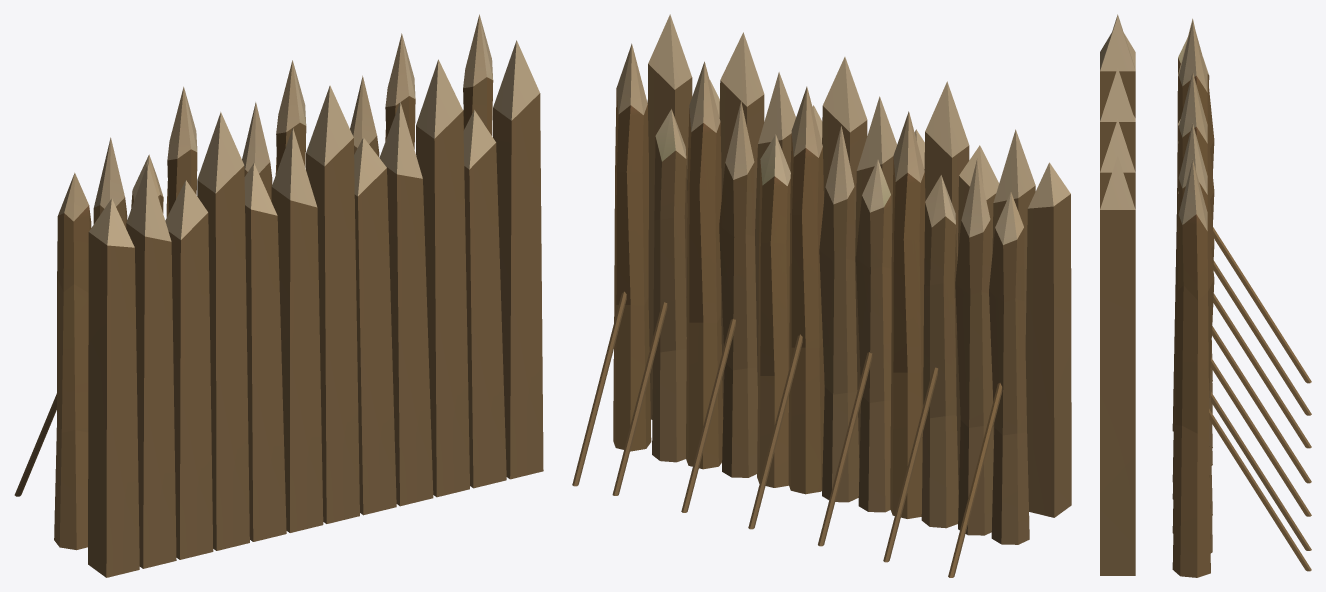
Rendered from TribalWall.fbx.
3 renders of one model, left to right at view 1: azimuth 30°, elevation 25°; view 2: azimuth 150°, elevation 25°; view 3: azimuth 270°, elevation 25°, orthographic. The views are drawn at different scales.
Parts seen in each view (by area): view 1: TribalWall_LOD_2, TribalWall_LOD_1; view 2: TribalWall_LOD_1, TribalWall_LOD_2; view 3: TribalWall_LOD_1, TribalWall_LOD_2.
Part boxes in pixels (x1=…): TribalWall_LOD_2: x1=88, y1=40, x2=543, y2=577; TribalWall_LOD_1: x1=14, y1=14, x2=493, y2=550; TribalWall_LOD_1: x1=572, y1=43, x2=1029, y2=577; TribalWall_LOD_2: x1=647, y1=14, x2=1071, y2=517; TribalWall_LOD_1: x1=1172, y1=18, x2=1311, y2=577; TribalWall_LOD_2: x1=1100, y1=14, x2=1135, y2=575.
Size of the model in its own units: 5.26 by 2.29 by 4.94.
1 material, 1 textured.
